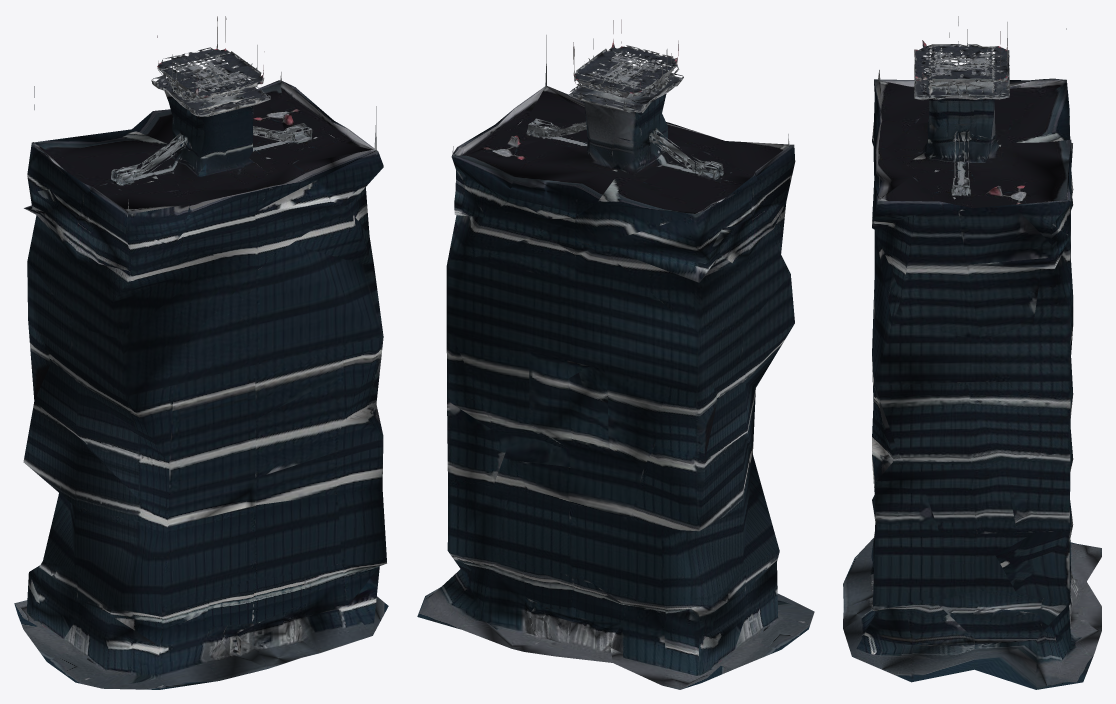
The model's file is tower_h.glb.
The picture shows the model from 3 angles, left to right: view 1: azimuth 30°, elevation 25°; view 2: azimuth 150°, elevation 25°; view 3: azimuth 270°, elevation 25°; orthographic projection. The views are drawn at different scales.
Size of the model in its own units: 1.12 by 1.9 by 0.7682.
1 material, 1 textured.
